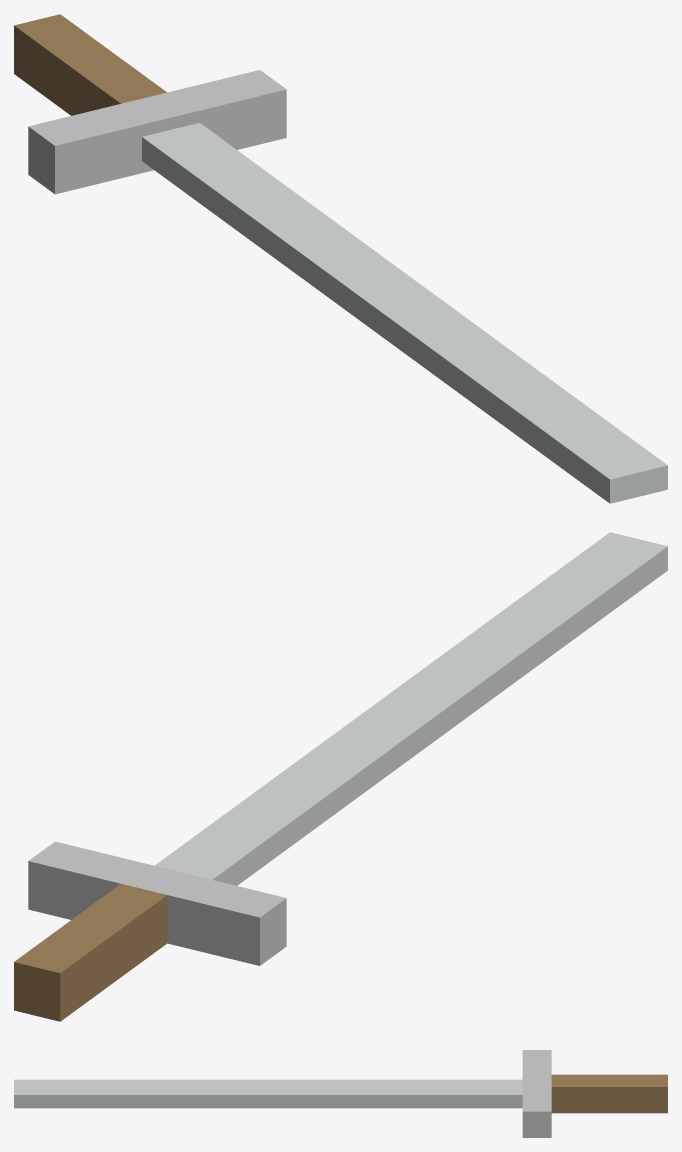
File: fen_hookblade.glb
The picture shows the model from 3 angles, top to bottom: view 1: azimuth 30°, elevation 25°; view 2: azimuth 150°, elevation 25°; view 3: azimuth 270°, elevation 25°; orthographic projection. The views are drawn at different scales.
Visible parts, largest first — view 1: blade, guard, grip; view 2: blade, guard, grip; view 3: blade, grip, guard.
Boxes of the visible parts, x1,y1,x2,y2 form: blade: (142, 123, 667, 503); guard: (28, 70, 286, 194); grip: (14, 14, 166, 115); blade: (154, 532, 667, 885); guard: (28, 841, 286, 965); grip: (14, 883, 167, 1021); blade: (14, 1079, 522, 1108); grip: (551, 1074, 667, 1113); guard: (522, 1050, 551, 1137).
Bounding box in the file's own units: 0.2 × 0.04 × 0.9.
